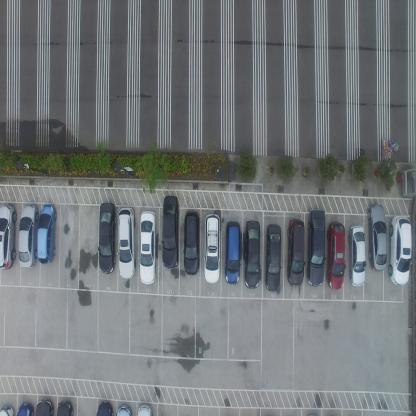car: (388, 216, 412, 287), (306, 207, 326, 288), (366, 202, 387, 272), (18, 201, 39, 269), (326, 220, 346, 291), (36, 203, 58, 265), (161, 196, 179, 270), (98, 201, 116, 275), (286, 218, 305, 288), (203, 212, 221, 285), (139, 209, 156, 286), (118, 205, 135, 280), (265, 220, 282, 290), (0, 203, 17, 271), (183, 209, 200, 276), (348, 224, 366, 287), (245, 218, 261, 288), (224, 221, 241, 284), (35, 398, 54, 416), (15, 400, 34, 416), (56, 400, 74, 416), (96, 400, 113, 415), (136, 401, 154, 415), (115, 404, 133, 415), (0, 403, 15, 416)
